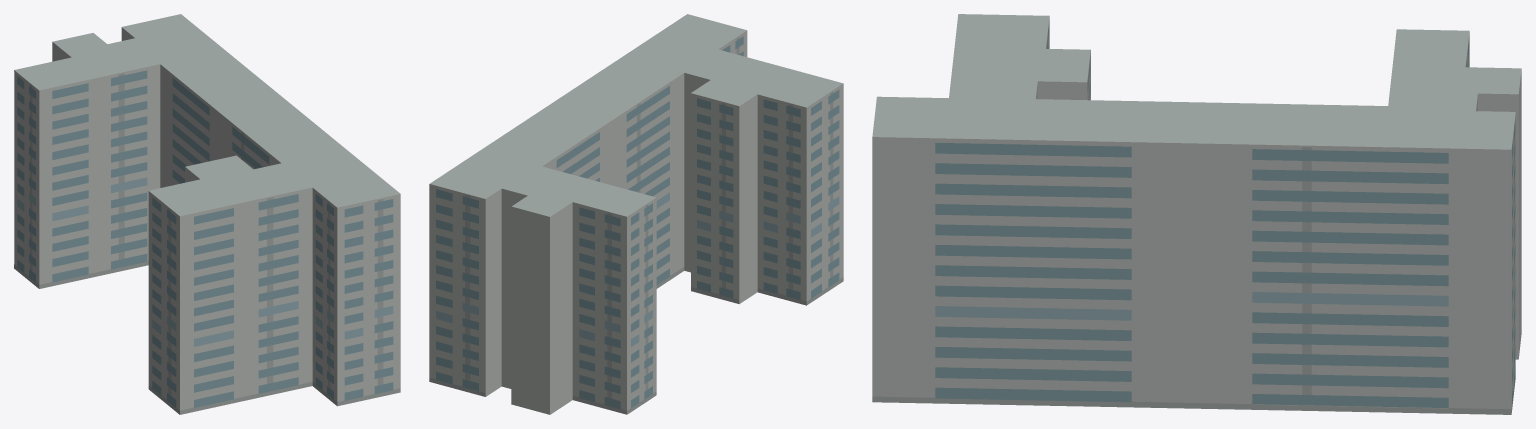
Rendered from residential-e3979e0c-8381-4dd3-98d9-9208898da6d2.glb.
3 renders of one model, left to right at view 1: azimuth 30°, elevation 25°; view 2: azimuth 150°, elevation 25°; view 3: azimuth 270°, elevation 25°, orthographic. The views are drawn at different scales.
Parts seen in each view (by area): view 1: residential-e3979e0c-8381-4dd3-98d9-9208898da6d2.tmp; view 2: residential-e3979e0c-8381-4dd3-98d9-9208898da6d2.tmp; view 3: residential-e3979e0c-8381-4dd3-98d9-9208898da6d2.tmp.
Boxes of the visible parts, x1,y1,x2,y2 form: residential-e3979e0c-8381-4dd3-98d9-9208898da6d2.tmp: [14, 14, 400, 414]; residential-e3979e0c-8381-4dd3-98d9-9208898da6d2.tmp: [429, 14, 843, 414]; residential-e3979e0c-8381-4dd3-98d9-9208898da6d2.tmp: [872, 14, 1521, 414].
Size of the model in its own units: 41.7 by 38 by 84.31.
